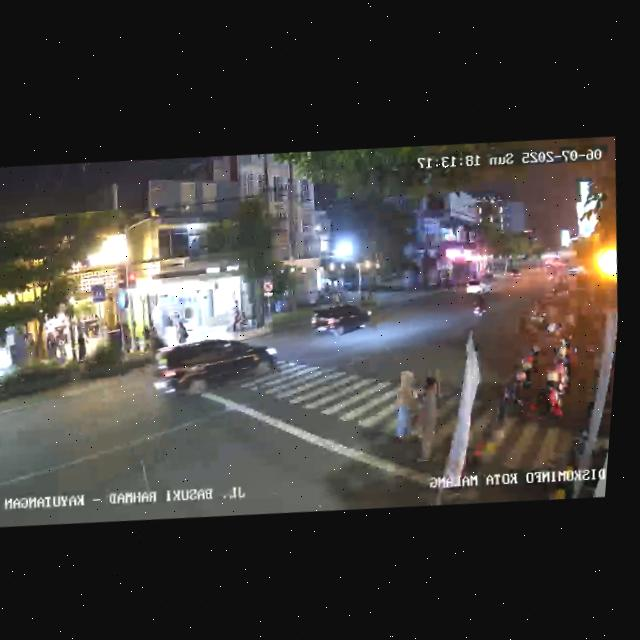car: (147, 326, 278, 402), (307, 298, 377, 339), (462, 274, 494, 300)
motorcycle: (469, 292, 490, 321)
person: (406, 374, 449, 467), (387, 368, 426, 444), (54, 327, 69, 364), (74, 331, 90, 364), (43, 328, 58, 361), (175, 315, 189, 342)
